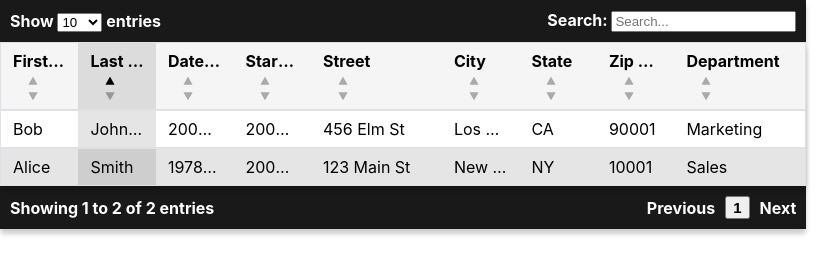
TablePlugin › filters data when search term is entered
The width and height of the screenshot is (826, 253).
Type "Alice" into the field with placeholder "Search..." at (704, 22), box top-left (611, 11), bottom-right (796, 32)
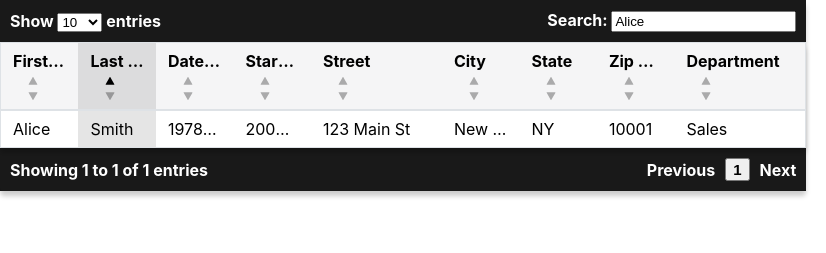
Expected: the text "Alice" is shown, top-left (1, 111), bottom-right (78, 147)
